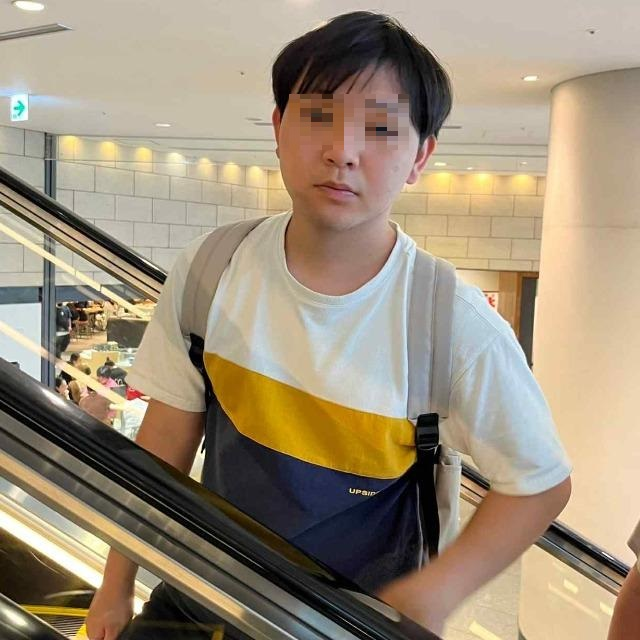NoHelmet: (257, 10, 455, 233)
